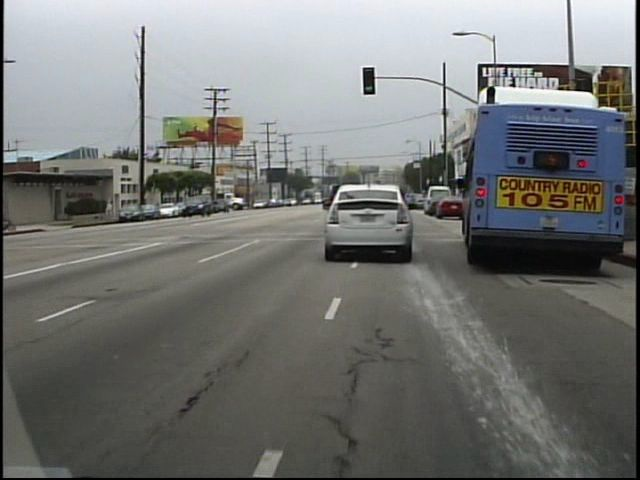person: (103, 195, 117, 221)
